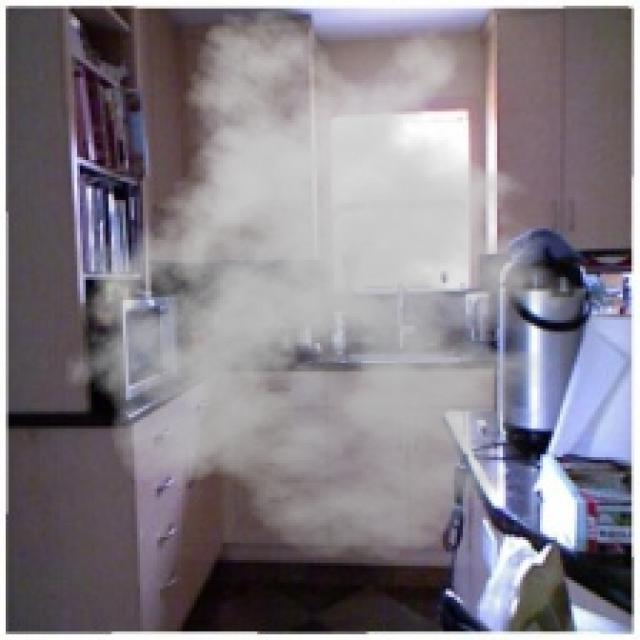smoke: (51, 6, 608, 560)
